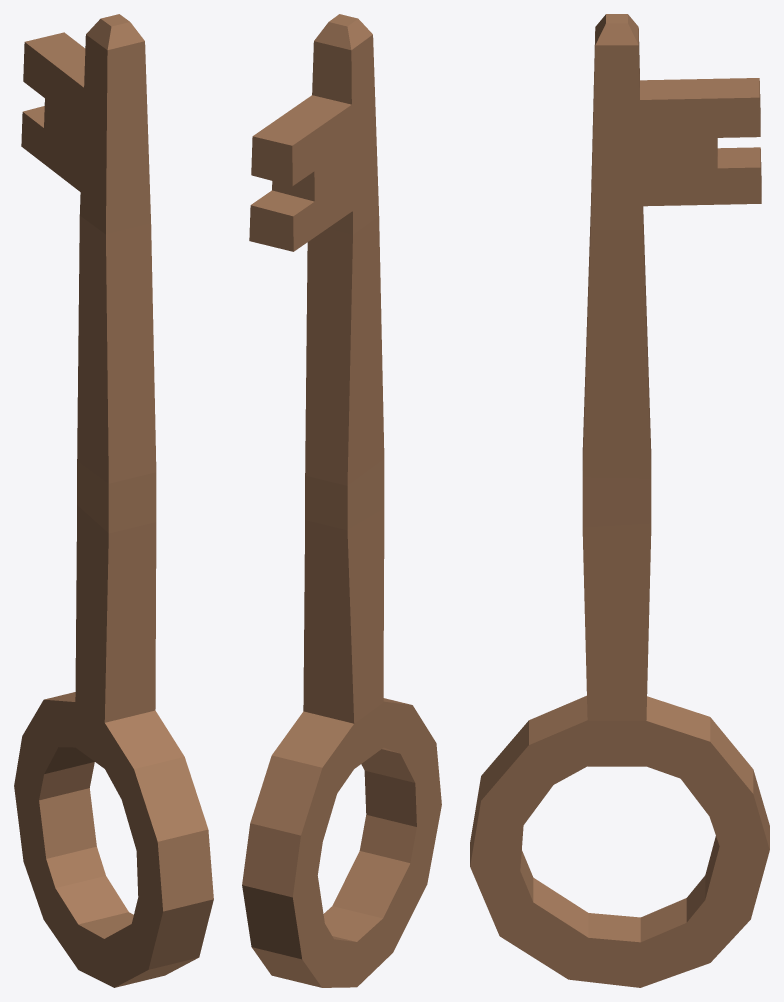
File: chave_bronze.fbx
3 views of the same model, side by side, from view 1: azimuth 30°, elevation 25°; view 2: azimuth 150°, elevation 25°; view 3: azimuth 270°, elevation 25° (orthographic).
Visible parts, largest first — view 1: Cube; view 2: Cube; view 3: Cube.
Boxes of the visible parts, left/top/right/bottom form: Cube: left=14, top=14, right=213, bottom=987; Cube: left=242, top=14, right=441, bottom=987; Cube: left=470, top=14, right=769, bottom=987.
Bounding box in the file's own units: 2.21 × 39.6 × 11.24.
